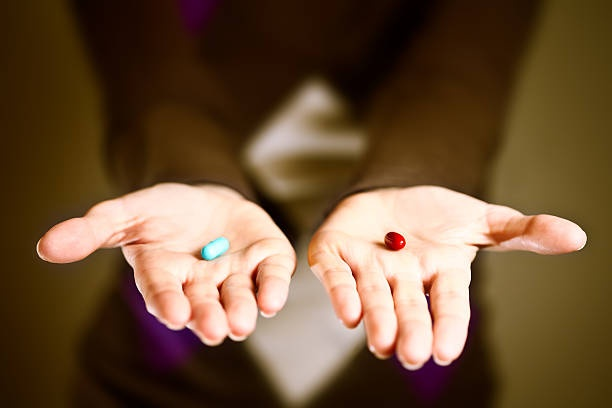pills: (198, 235, 229, 261), (378, 230, 409, 253)
